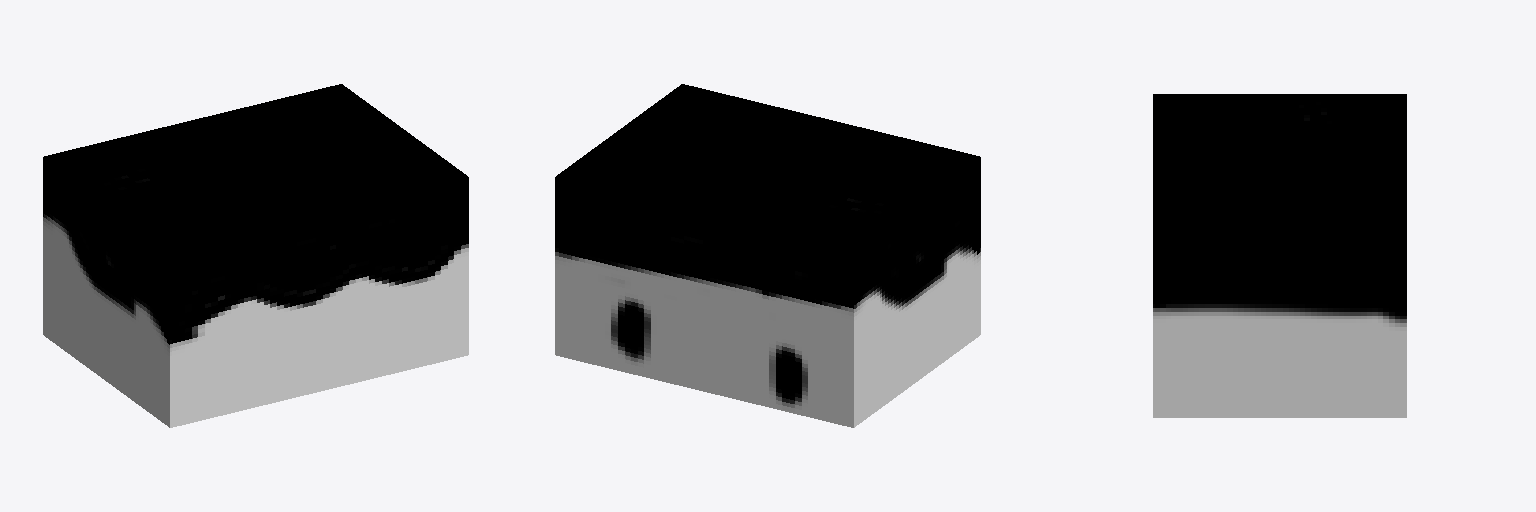
3 views of the same model, side by side, from view 1: azimuth 30°, elevation 25°; view 2: azimuth 150°, elevation 25°; view 3: azimuth 270°, elevation 25° (orthographic).
Visible parts, largest first — view 1: head; view 2: head; view 3: head.
Part boxes in pixels (x1,y1,x2,y2): head: (43,84,468,427); head: (555,84,980,427); head: (1153,94,1406,417).
Size of the model in its own units: 1.48 by 0.8498 by 1.09.
1 materials, 1 textured.